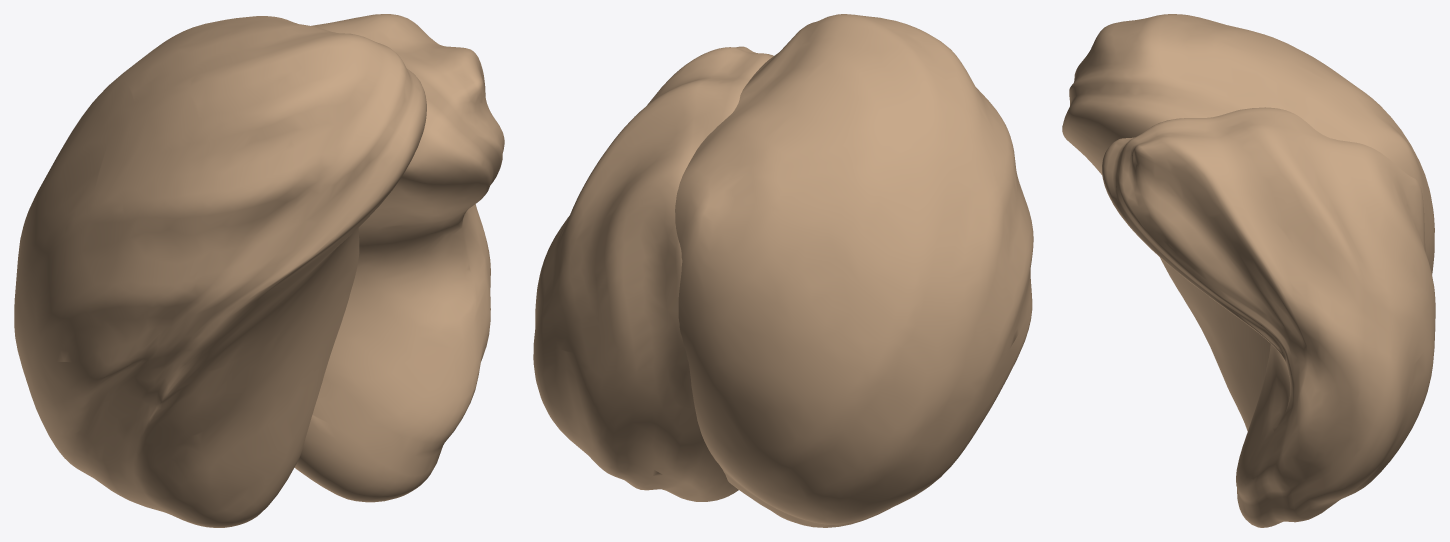
The model's file is hair-7-930fa073.glb.
The picture shows the model from 3 angles, left to right: view 1: azimuth 30°, elevation 25°; view 2: azimuth 150°, elevation 25°; view 3: azimuth 270°, elevation 25°; orthographic projection. The views are drawn at different scales.
Parts seen in each view (by area): view 1: Geo_White_Older_Female_Hair_7.001; view 2: Geo_White_Older_Female_Hair_7.001; view 3: Geo_White_Older_Female_Hair_7.001.
Boxes of the visible parts, box(x1,y1,x2,y2) form: Geo_White_Older_Female_Hair_7.001: box(14, 14, 504, 527); Geo_White_Older_Female_Hair_7.001: box(533, 14, 1033, 527); Geo_White_Older_Female_Hair_7.001: box(1062, 14, 1435, 527).
Size of the model in its own units: 2.26 by 2.4 by 1.84.
